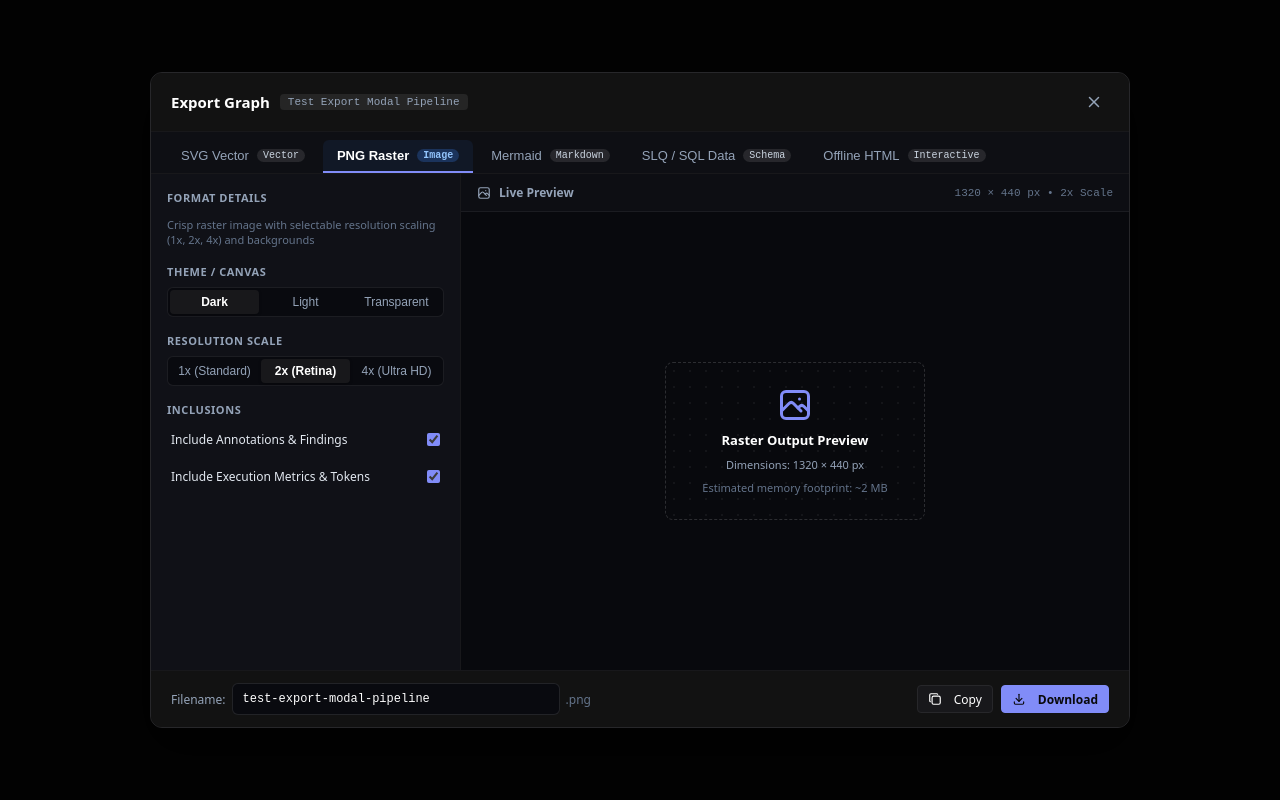
Test: ExportModal Component › changes resolution scale on PNG tab
Click the button "4x (Ultra HD)" at coordinates (396, 371), box [352,359,441,383]
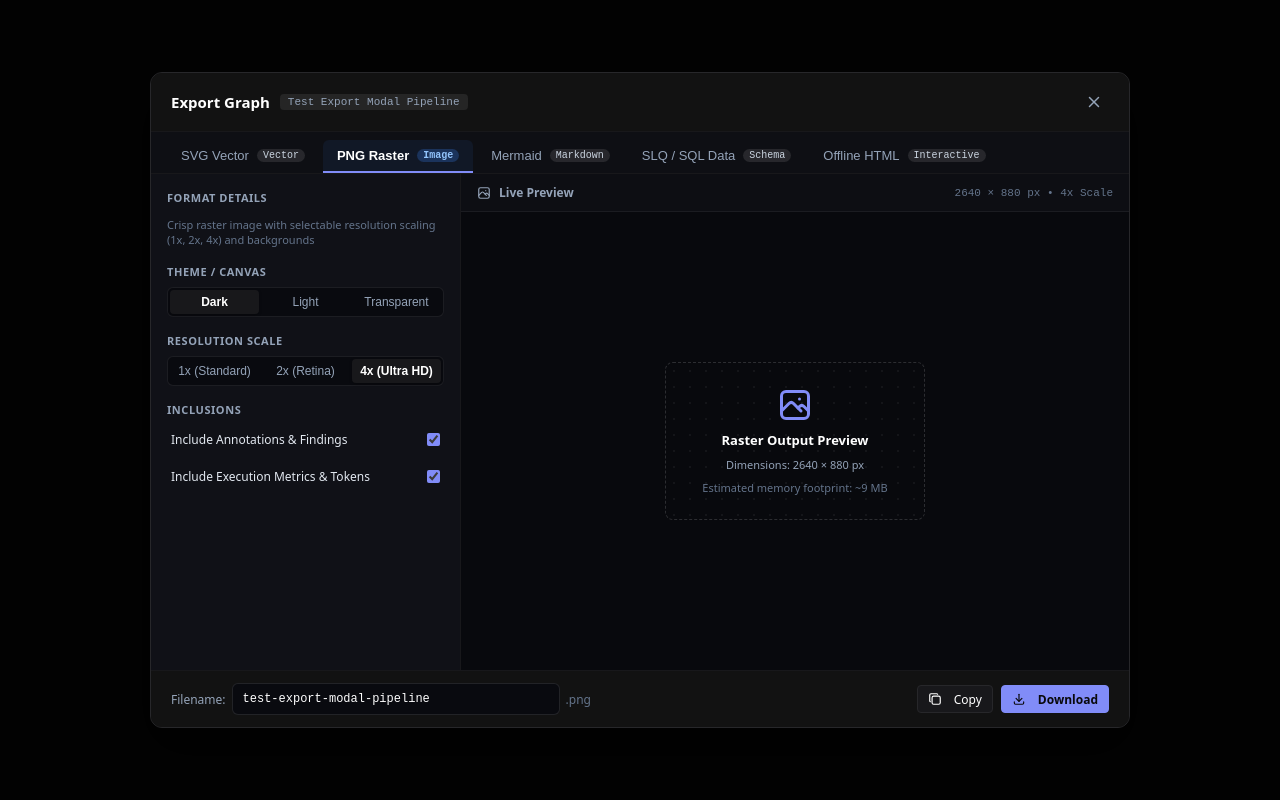
Expected: the text "2640 × 880 px • 4x Scale" is shown, [954,186,1113,198]
